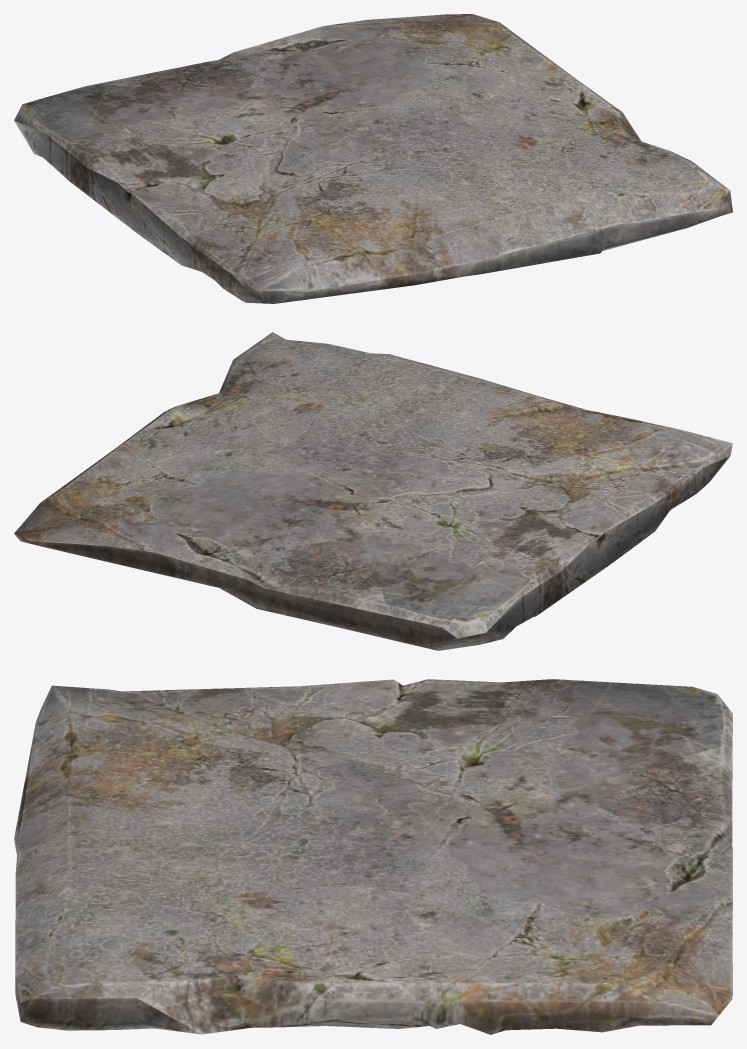
Rendered from SM_GroundPlate02.FBX.
3 renders of one model, top to bottom at view 1: azimuth 30°, elevation 25°; view 2: azimuth 150°, elevation 25°; view 3: azimuth 270°, elevation 25°, orthographic. The views are drawn at different scales.
Parts seen in each view (by area): view 1: SM_GroundPlate02; view 2: SM_GroundPlate02; view 3: SM_GroundPlate02.
Part boxes in pixels (box(x1,y1,x2,y2)): SM_GroundPlate02: box(14, 14, 732, 303); SM_GroundPlate02: box(14, 332, 732, 650); SM_GroundPlate02: box(14, 679, 732, 1034).
Size of the model in its own units: 600 by 602 by 60.25.
